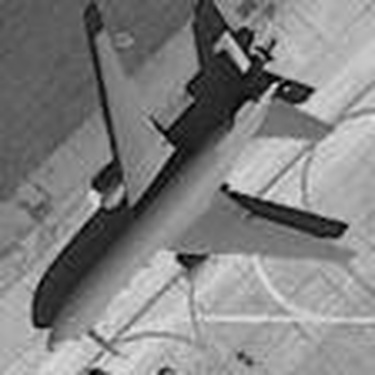airplane: (26, 15, 374, 359)
